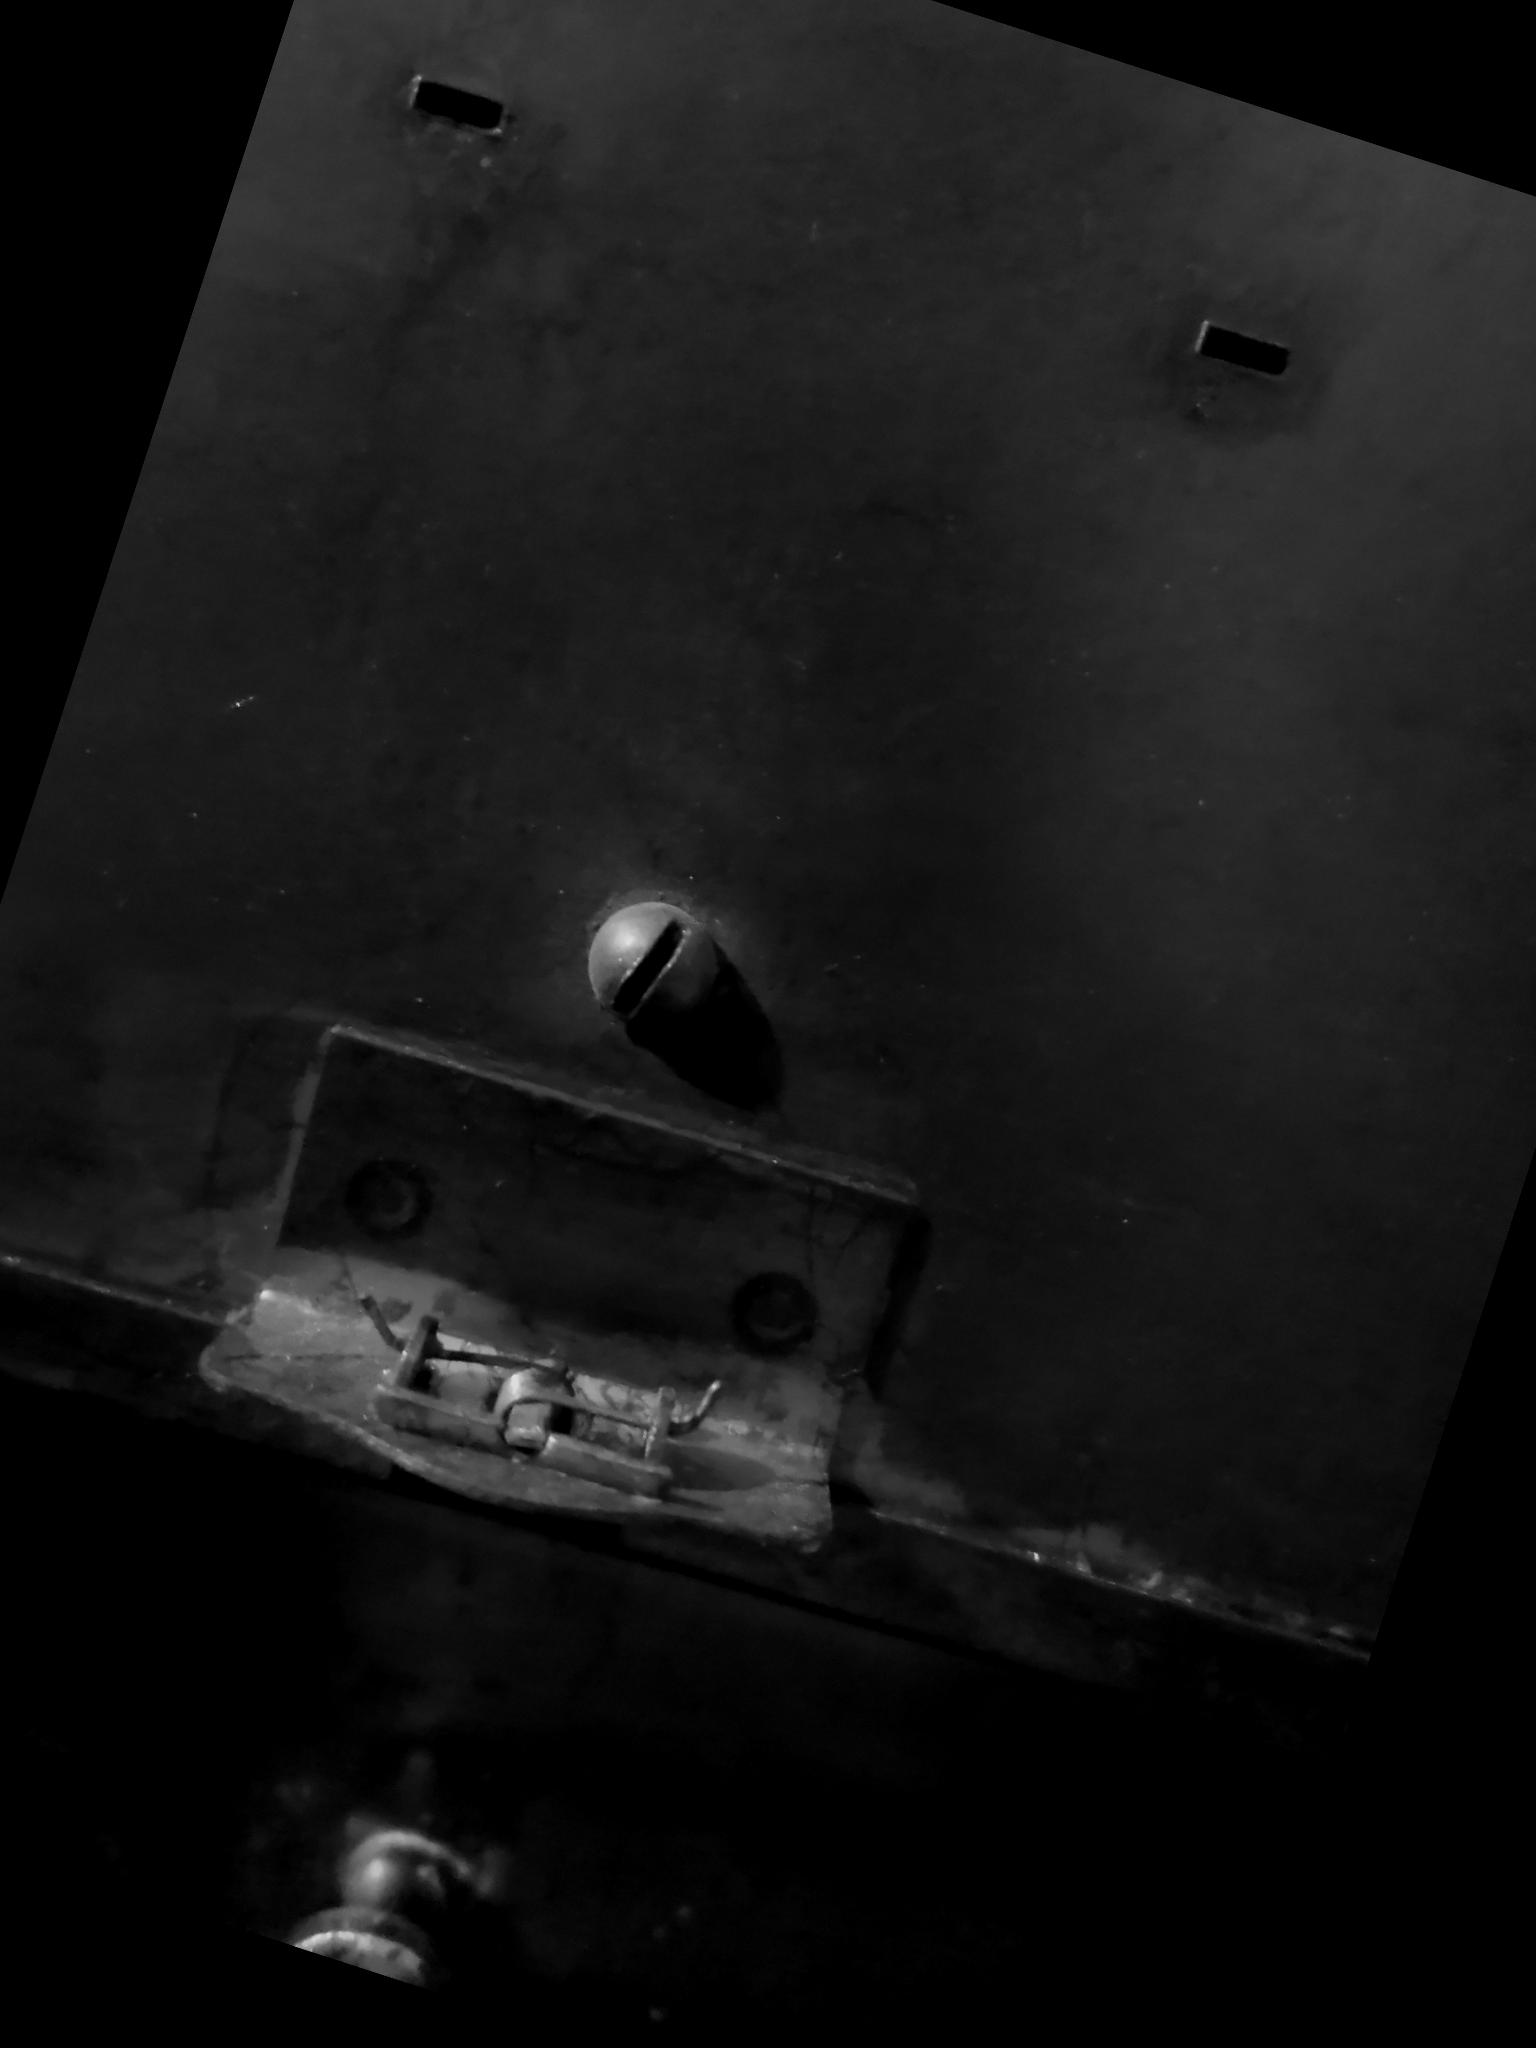slotted: (552, 869, 747, 1058)
